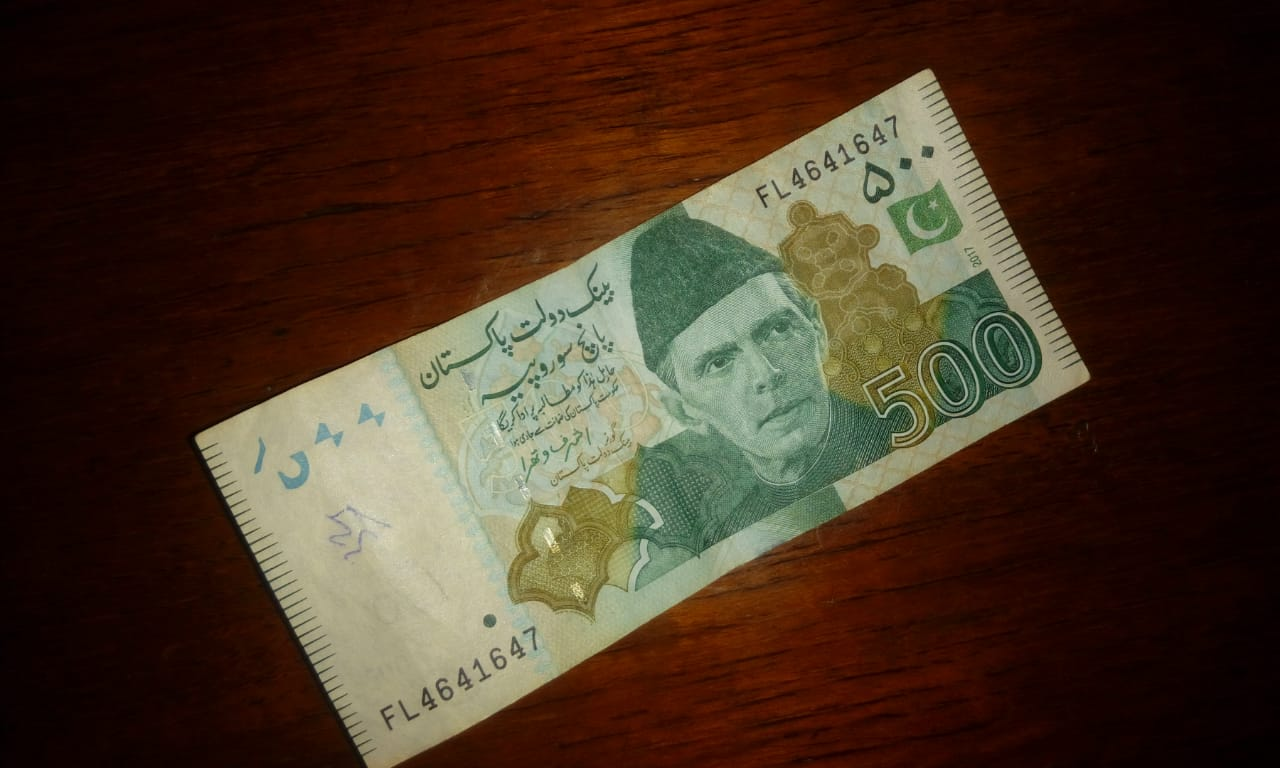500 rupee: (164, 65, 1154, 758)
